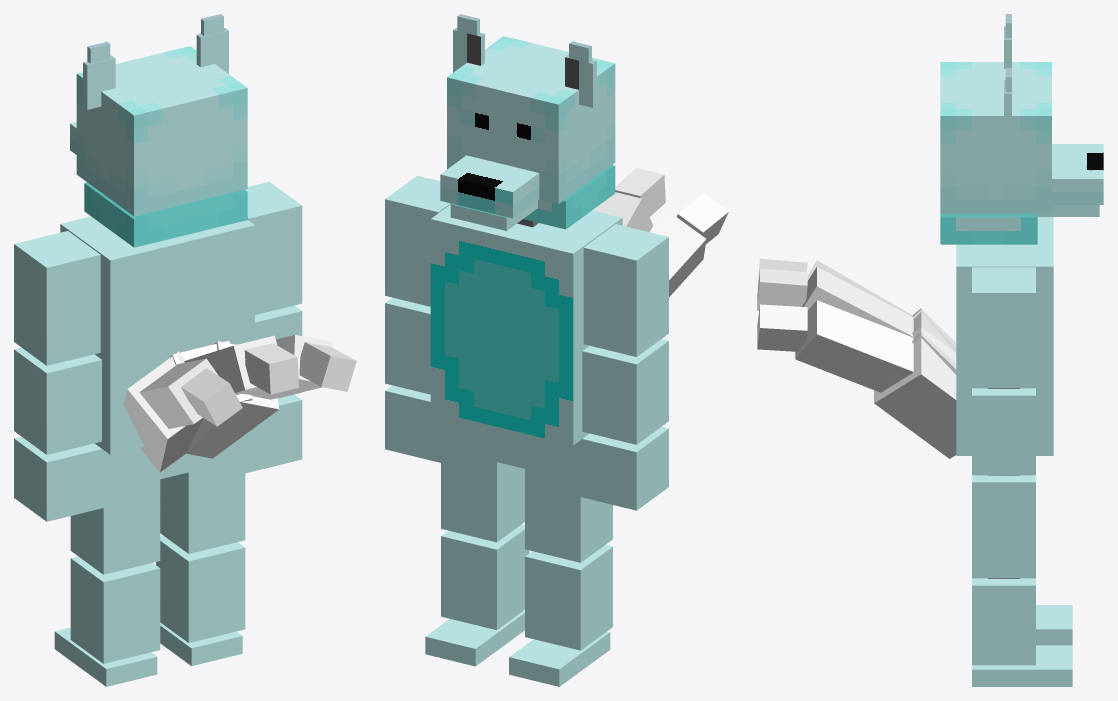
The model's file is Animatronic Fine.gltf.
3 renders of one model, left to right at view 1: azimuth 30°, elevation 25°; view 2: azimuth 150°, elevation 25°; view 3: azimuth 270°, elevation 25°, orthographic. The views are drawn at different scales.
Visible parts, largest first — view 1: suit (×16), cube (×11); view 2: suit (×18), cube (×6); view 3: suit (×12), cube (×8).
Boxes of the visible parts, x1,y1,x2,y2 form: suit (×16): [14, 46, 302, 686]; cube (×11): [83, 28, 356, 472]; suit (×18): [385, 36, 668, 686]; cube (×6): [453, 27, 728, 296]; suit (×12): [940, 62, 1103, 686]; cube (×8): [757, 258, 956, 458].
Size of the model in its own units: 1.12 by 2.63 by 1.36.
3 materials, 2 textured.
